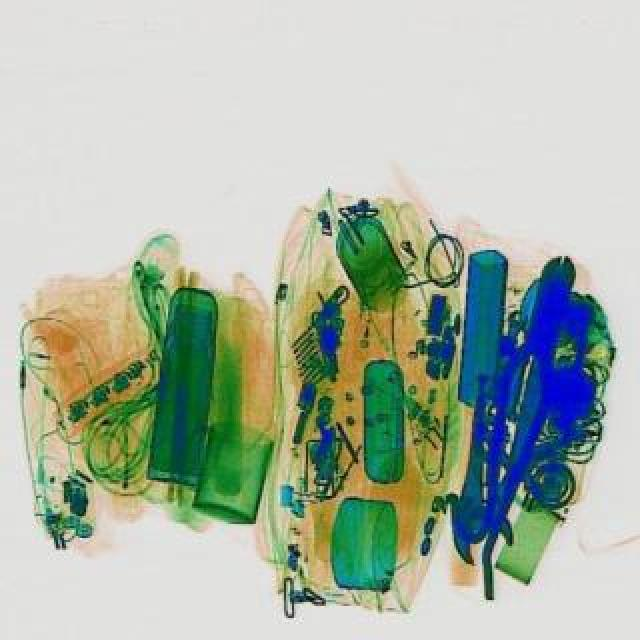wrench: (442, 366, 566, 570), (524, 252, 578, 340)
